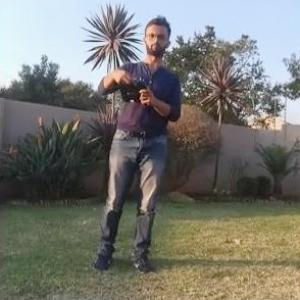follow: (84, 5, 186, 280)
